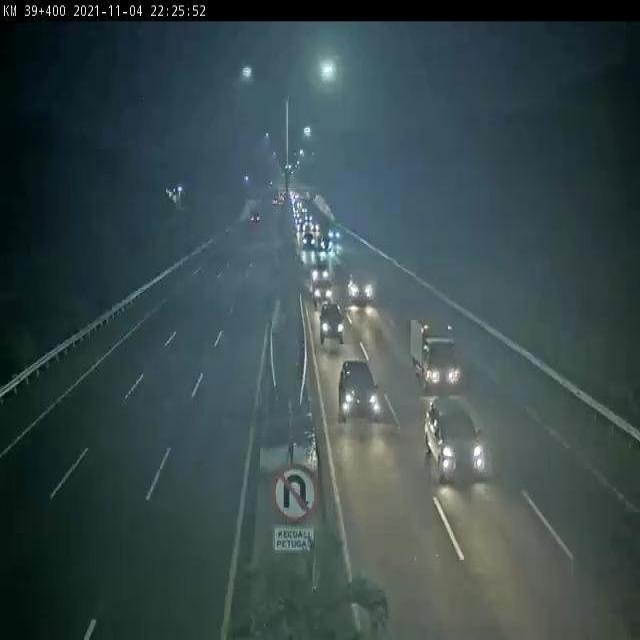car: (428, 397, 487, 479), (306, 296, 345, 367), (345, 360, 375, 415), (353, 268, 376, 301), (312, 283, 331, 305), (313, 261, 330, 279), (320, 233, 337, 250), (302, 233, 315, 247)
truck-s-: (413, 320, 461, 383)
